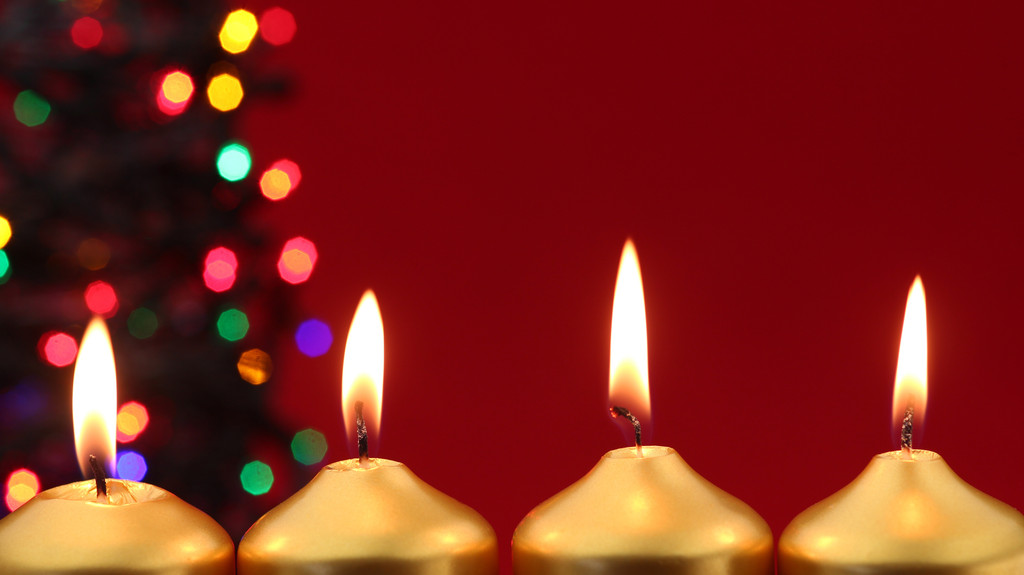Fire: (67, 309, 127, 486), (606, 234, 655, 429), (342, 278, 390, 449), (890, 266, 932, 436)
